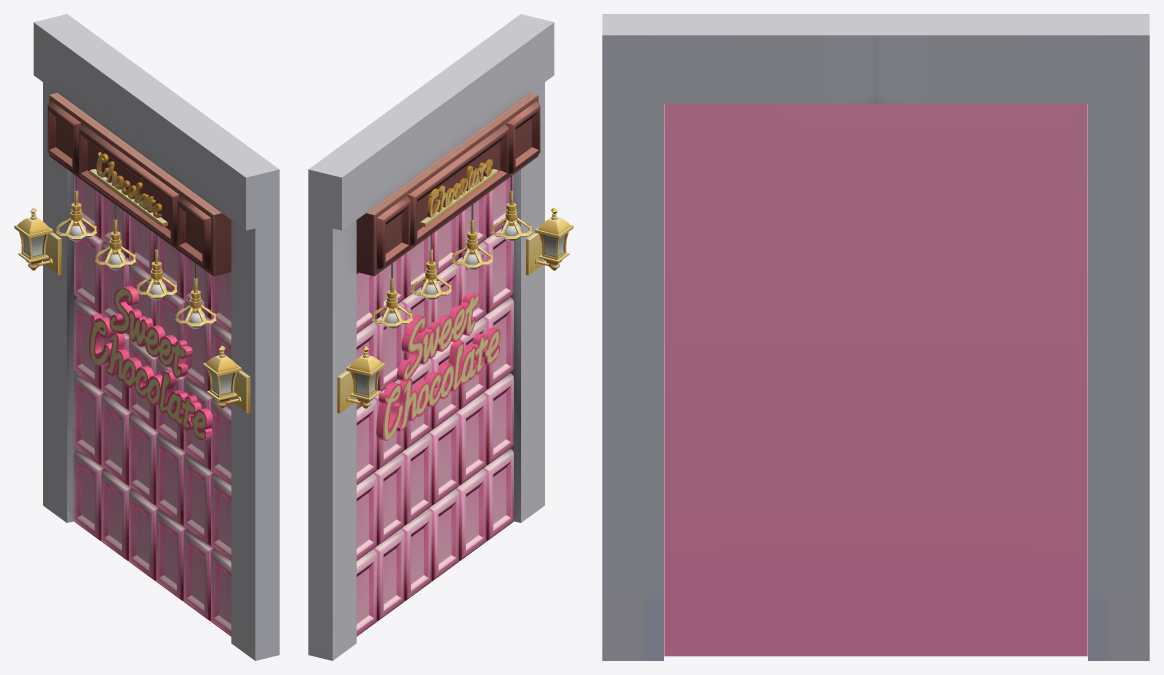
Rendered from my_chocolatecafe_01_p_wall_acc_02.glb.
3 renders of one model, left to right at view 1: azimuth 30°, elevation 25°; view 2: azimuth 150°, elevation 25°; view 3: azimuth 270°, elevation 25°, orthographic. The views are drawn at different scales.
Parts seen in each view (by area): view 1: my_chocolatecafe_01_p_wall_acc_02; view 2: my_chocolatecafe_01_p_wall_acc_02; view 3: my_chocolatecafe_01_p_wall_acc_02.
Part boxes in pixels (x1,y1,x2,y2): my_chocolatecafe_01_p_wall_acc_02: (14, 14, 279, 660); my_chocolatecafe_01_p_wall_acc_02: (308, 14, 573, 660); my_chocolatecafe_01_p_wall_acc_02: (602, 14, 1149, 660).
Bounding box in the file's own units: 0.00562 × 0.0454 × 0.0358.
Materials: 1 (1 with a texture image).
